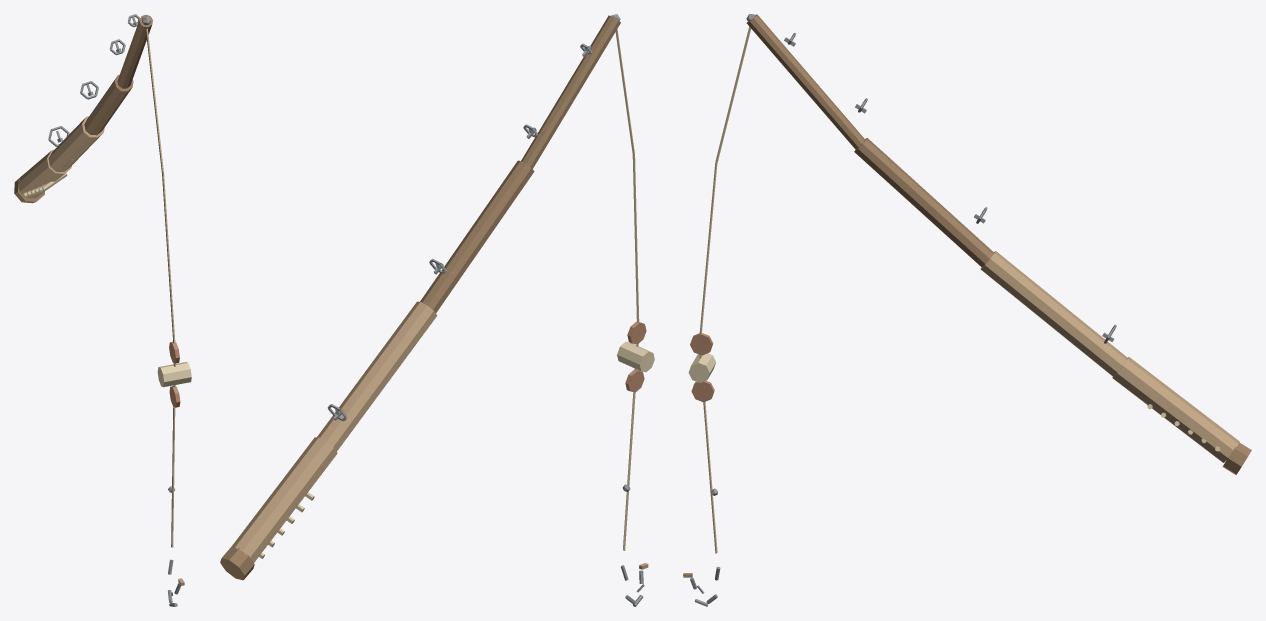
Rendered from fishing_rod.glb.
3 views of the same model, side by side, from view 1: azimuth 30°, elevation 25°; view 2: azimuth 150°, elevation 25°; view 3: azimuth 270°, elevation 25° (orthographic). The views are drawn at different scales.
Parts seen in each view (by area): view 1: Arm.R.Lower.Tool.RodSegment1, Arm.R.Lower.Tool.RodSegment2, Arm.R.Lower.Tool.RodSegment3, Arm.R.Lower.Tool.RodSegment0, Arm.R.Lower.Tool.BobberBody, Arm.R.Lower.Tool.FishingLine1, Arm.R.Lower.Tool.FishingLine0, Arm.R.Lower.Tool.FishingLine2; view 2: Arm.R.Lower.Tool.RodSegment1, Arm.R.Lower.Tool.RodSegment0, Arm.R.Lower.Tool.RodSegment2, Arm.R.Lower.Tool.RodSegment3, Arm.R.Lower.Tool.BobberBody, Arm.R.Lower.Tool.ButtCap; view 3: Arm.R.Lower.Tool.RodSegment1, Arm.R.Lower.Tool.RodSegment0, Arm.R.Lower.Tool.RodSegment2, Arm.R.Lower.Tool.RodSegment3.
Boxes of the visible parts, x1=… form: Arm.R.Lower.Tool.RodSegment1: x1=48, y1=116, x2=104, y2=171; Arm.R.Lower.Tool.RodSegment2: x1=84, y1=74, x2=133, y2=135; Arm.R.Lower.Tool.RodSegment3: x1=117, y1=14, x2=152, y2=88; Arm.R.Lower.Tool.RodSegment0: x1=18, y1=150, x2=71, y2=198; Arm.R.Lower.Tool.BobberBody: x1=157, y1=362, x2=191, y2=387; Arm.R.Lower.Tool.FishingLine1: x1=162, y1=174, x2=175, y2=343; Arm.R.Lower.Tool.FishingLine0: x1=145, y1=28, x2=163, y2=174; Arm.R.Lower.Tool.FishingLine2: x1=171, y1=363, x2=175, y2=547; Arm.R.Lower.Tool.RodSegment1: x1=317, y1=301, x2=437, y2=451; Arm.R.Lower.Tool.RodSegment0: x1=231, y1=437, x2=337, y2=562; Arm.R.Lower.Tool.RodSegment2: x1=420, y1=160, x2=534, y2=312; Arm.R.Lower.Tool.RodSegment3: x1=521, y1=15, x2=620, y2=168; Arm.R.Lower.Tool.BobberBody: x1=617, y1=341, x2=654, y2=372; Arm.R.Lower.Tool.ButtCap: x1=220, y1=546, x2=254, y2=580; Arm.R.Lower.Tool.RodSegment1: x1=980, y1=251, x2=1127, y2=376; Arm.R.Lower.Tool.RodSegment0: x1=1112, y1=357, x2=1239, y2=462; Arm.R.Lower.Tool.RodSegment2: x1=854, y1=138, x2=993, y2=267; Arm.R.Lower.Tool.RodSegment3: x1=746, y1=14, x2=865, y2=149.
Size of the model in its own units: 0.6547 by 2.5 by 2.18.
